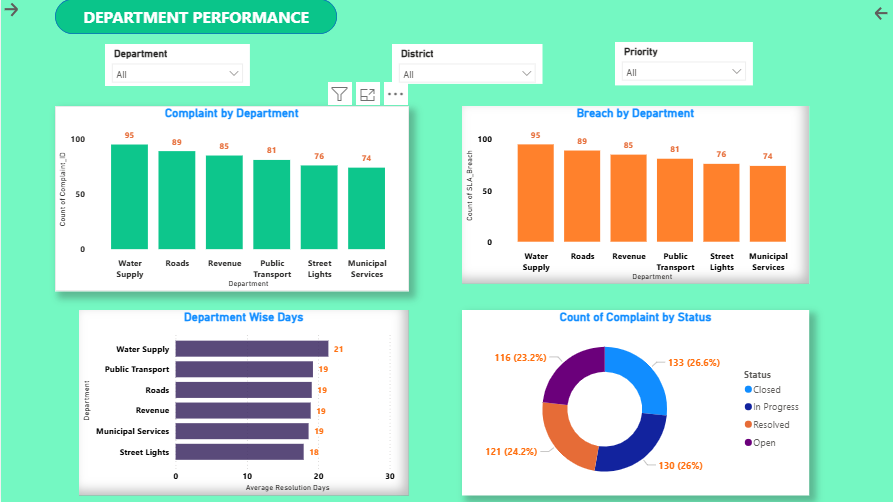

The dashboard page shown, as its layout file describes it:
{"tool":"powerbi","page":{"name":"Department by Complaints","canvas":[1280,720],"ordinal":1},"visuals":[{"type":"clusteredColumnChart","title":"Complaint by Department","fields":{"Category":["Citizen Grievance Data.Department"],"Y":["CountNonNull(Citizen Grievance Data.Complaint_ID)"]},"box":[77.1,152.9,505.1,264.5],"z":0},{"type":"columnChart","title":"Breach by Department","fields":{"Category":["Citizen Grievance Data.Department"],"Y":["CountNonNull(Citizen Grievance Data.SLA_Breach)"]},"box":[657.9,152.9,495.8,253.9],"z":1000},{"type":"clusteredBarChart","title":"Department Wise Days","fields":{"Category":["Citizen Grievance Data.Department"],"Y":["Citizen Grievance Data.Average Resolution Days"]},"box":[111.7,443.9,470.5,264.5],"z":2000},{"type":"donutChart","title":"Count of Complaint by Status","fields":{"Category":["Citizen Grievance Data.Status"],"Y":["CountNonNull(Citizen Grievance Data.Complaint_ID)"]},"box":[657.9,443.9,495.8,264.5],"z":3000},{"type":"slicer","fields":{"Values":["Citizen Grievance Data.Priority"]},"box":[877.3,61.1,196.7,62.5],"z":4000},{"type":"slicer","fields":{"Values":["Citizen Grievance Data.District"]},"box":[558.3,63.8,215.3,57.2],"z":5000},{"type":"slicer","fields":{"Values":["Citizen Grievance Data.Department"]},"box":[148.9,63.8,207.4,59.8],"z":6000},{"type":"shape","box":[77,0,403,50],"z":7000},{"type":"actionButton","box":[0,0,28.4,31.1],"z":8000},{"type":"actionButton","box":[1244.2,7.2,35.8,27.2],"z":9000}]}

Visuals, with their boxes in screenshot pixels (x1, y1, x2, y2), scaled from the page's 1280x720 canvas onto the 893x502 screenshot:
"Complaint by Department" clusteredColumnChart: BBox(54, 107, 406, 291)
"Breach by Department" columnChart: BBox(459, 107, 805, 284)
"Department Wise Days" clusteredBarChart: BBox(78, 309, 406, 494)
"Count of Complaint by Status" donutChart: BBox(459, 309, 805, 494)
slicer - Citizen Grievance Data.Priority: BBox(612, 43, 749, 86)
slicer - Citizen Grievance Data.District: BBox(390, 44, 540, 84)
slicer - Citizen Grievance Data.Department: BBox(104, 44, 249, 86)
shape: BBox(54, 0, 335, 35)
actionButton: BBox(0, 0, 20, 22)
actionButton: BBox(868, 5, 892, 24)
